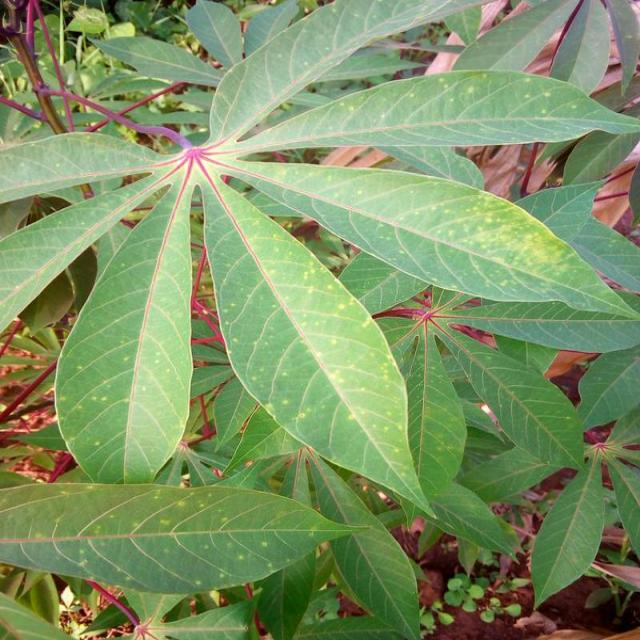Mosaico: (90, 80, 540, 330)
